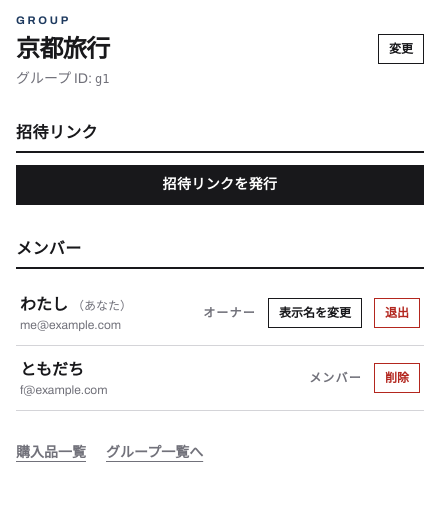
Test case: メンバー削除に失敗するとエラーメッセージを表示する
Click the button "削除": (397, 378) x1=374 y1=362 x2=420 y2=392
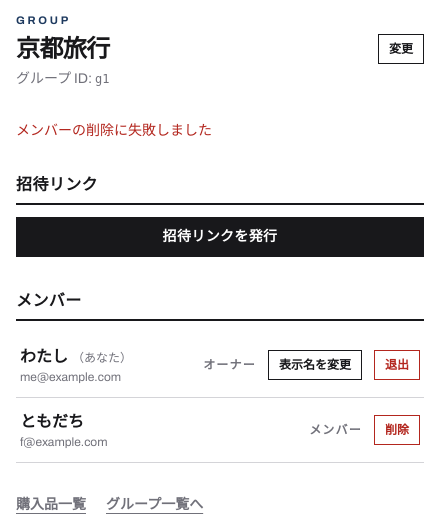
Now the text "メンバーの削除に失敗しました" is shown, box x1=16 y1=122 x2=212 y2=138
